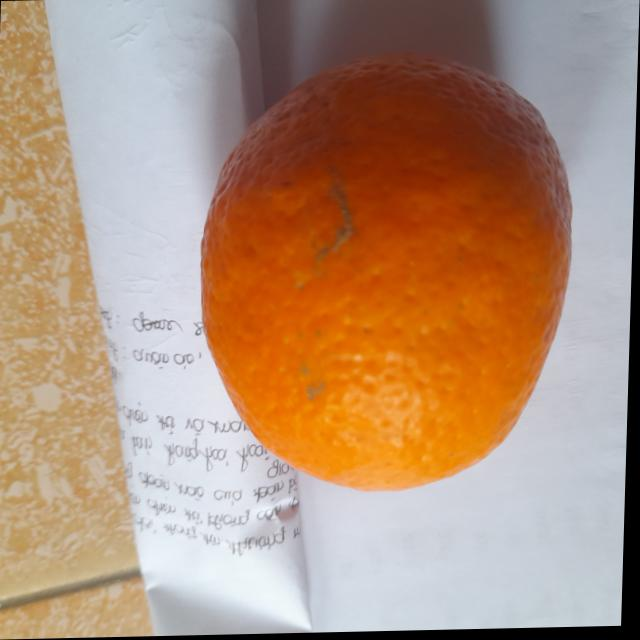Cam: (192, 48, 583, 501)
